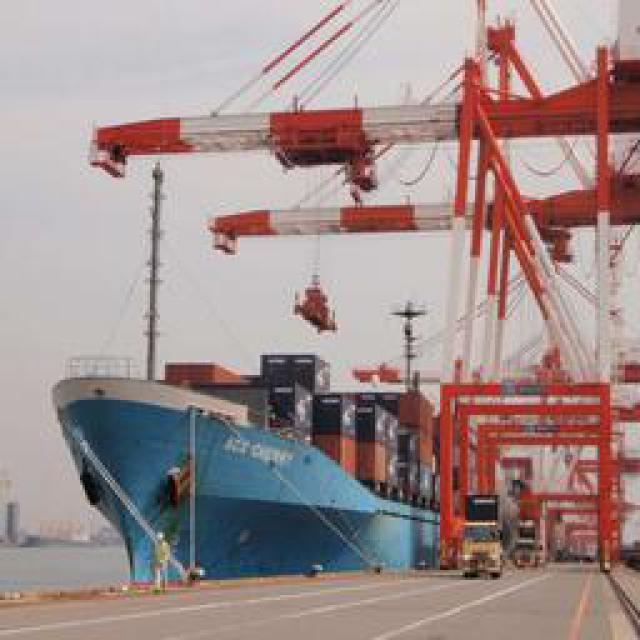Ship: (49, 127, 507, 594)
